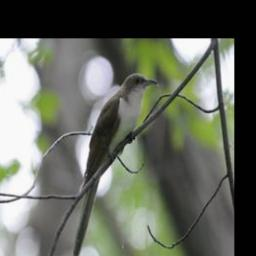Cuckoo: (69, 70, 158, 256)
